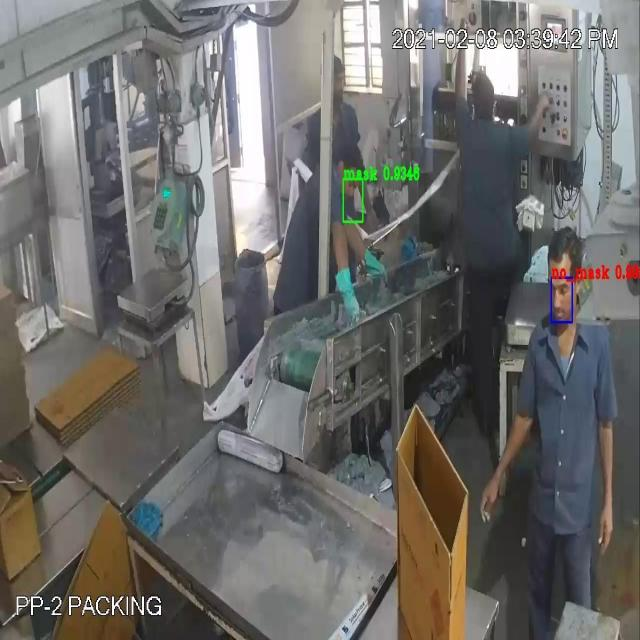Gloves: (30, 69, 611, 474)
